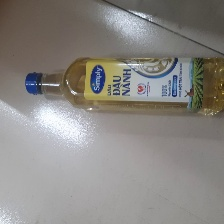Simply: (24, 53, 224, 118)
